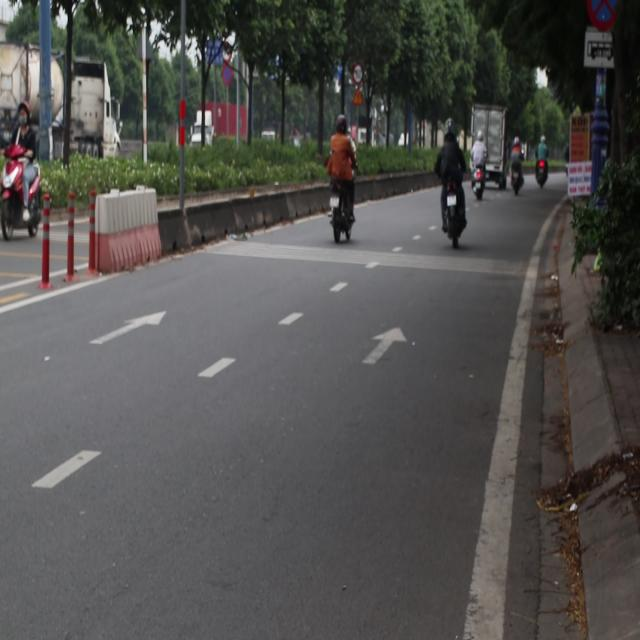motorbike: (0, 163, 54, 229), (323, 168, 358, 249), (438, 180, 464, 240), (510, 164, 529, 197), (534, 154, 551, 188), (476, 165, 485, 190)
truck: (0, 43, 135, 151), (469, 84, 511, 194), (184, 91, 235, 153)
